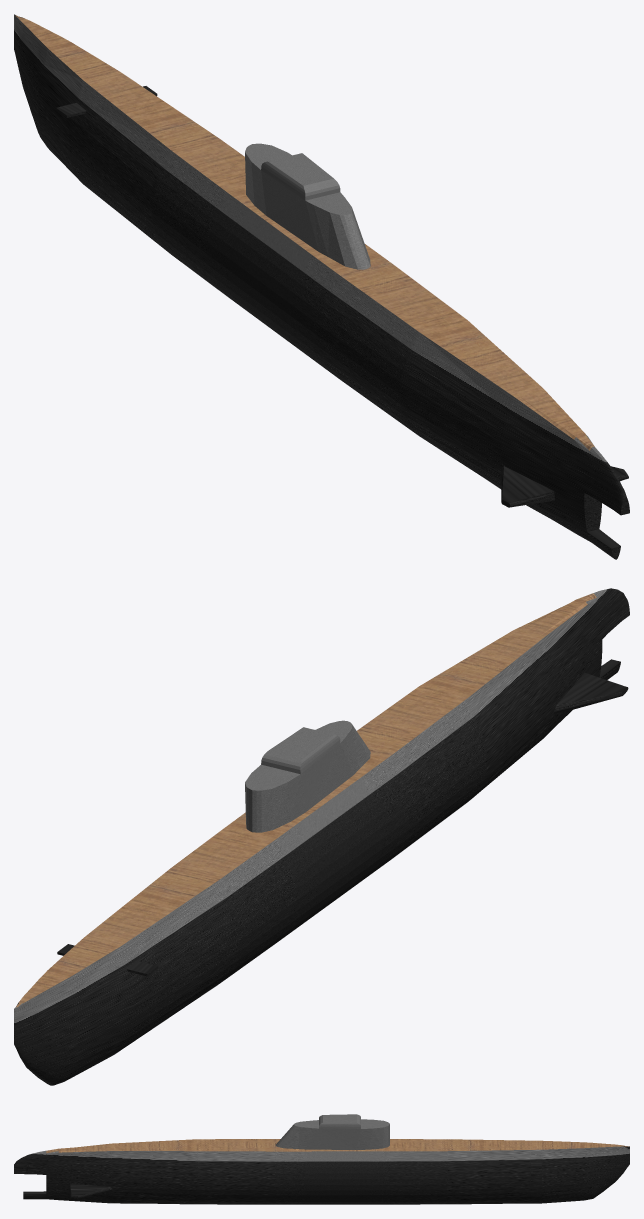
Rendered from type21.obj.
3 renders of one model, top to bottom at view 1: azimuth 30°, elevation 25°; view 2: azimuth 150°, elevation 25°; view 3: azimuth 270°, elevation 25°, orthographic. The views are drawn at different scales.
Parts seen in each view (by area): view 1: Cylinder; view 2: Cylinder; view 3: Cylinder.
Boxes of the visible parts, <box> form: Cylinder: <box>14,14,629,559</box>; Cylinder: <box>14,588,629,1085</box>; Cylinder: <box>14,1114,629,1204</box>.
Bounding box in the file's own units: 8.78 × 11.43 × 75.82.
